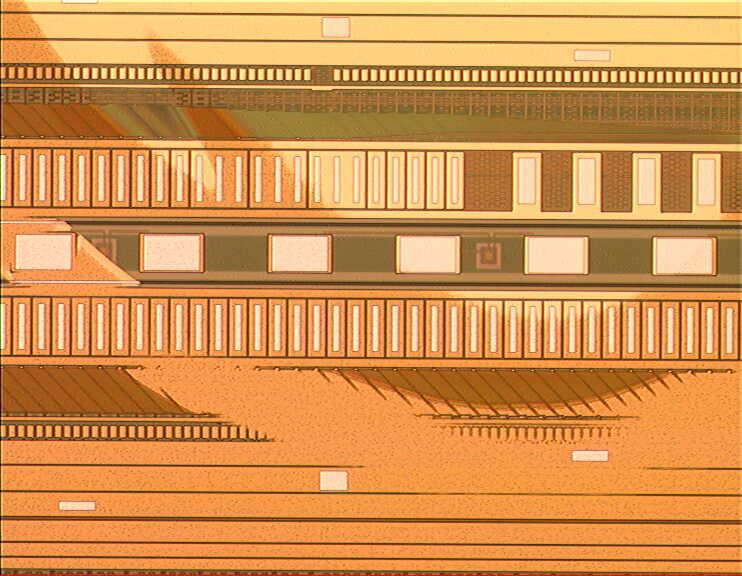COATING BAD: (1, 1, 742, 505)
